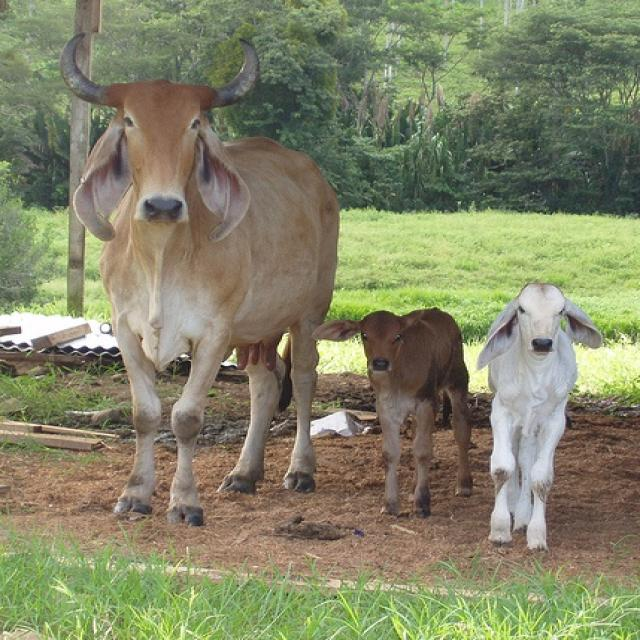cow: (58, 33, 341, 527), (474, 283, 608, 557), (315, 307, 476, 522)
